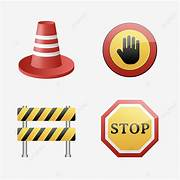stop: (100, 99, 160, 158)
